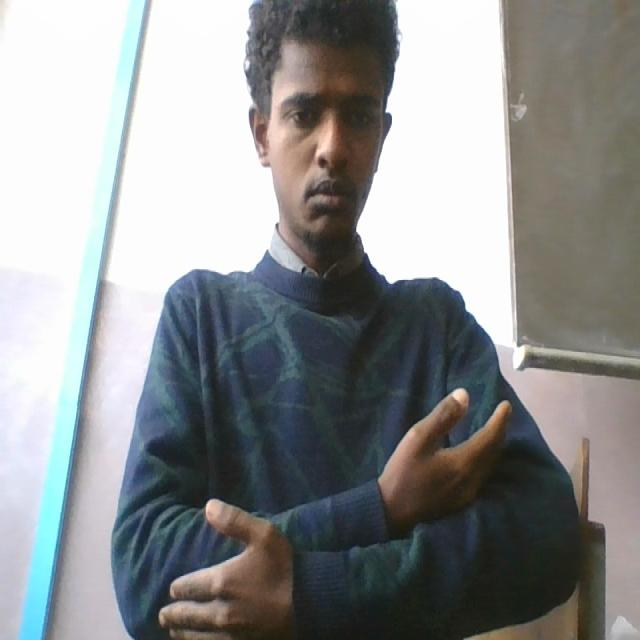lij: (150, 383, 520, 640)
